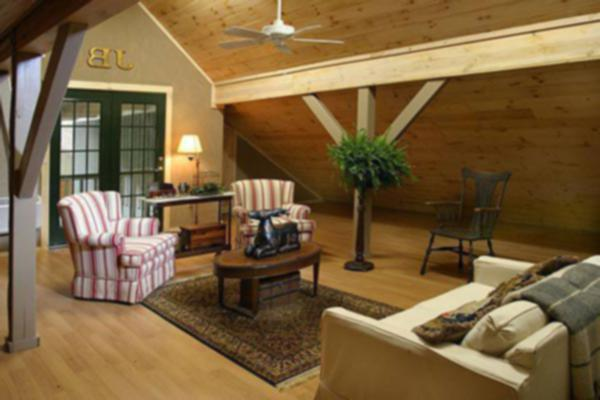Matera: (333, 133, 407, 265)
